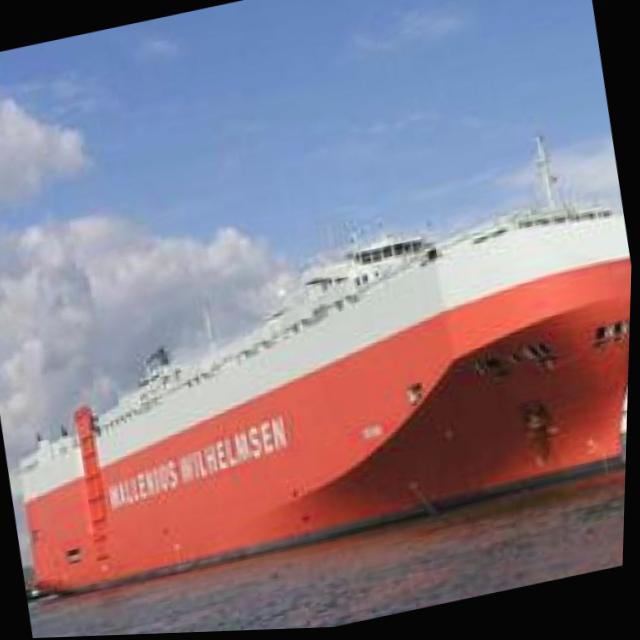ship2: (20, 139, 633, 596)
